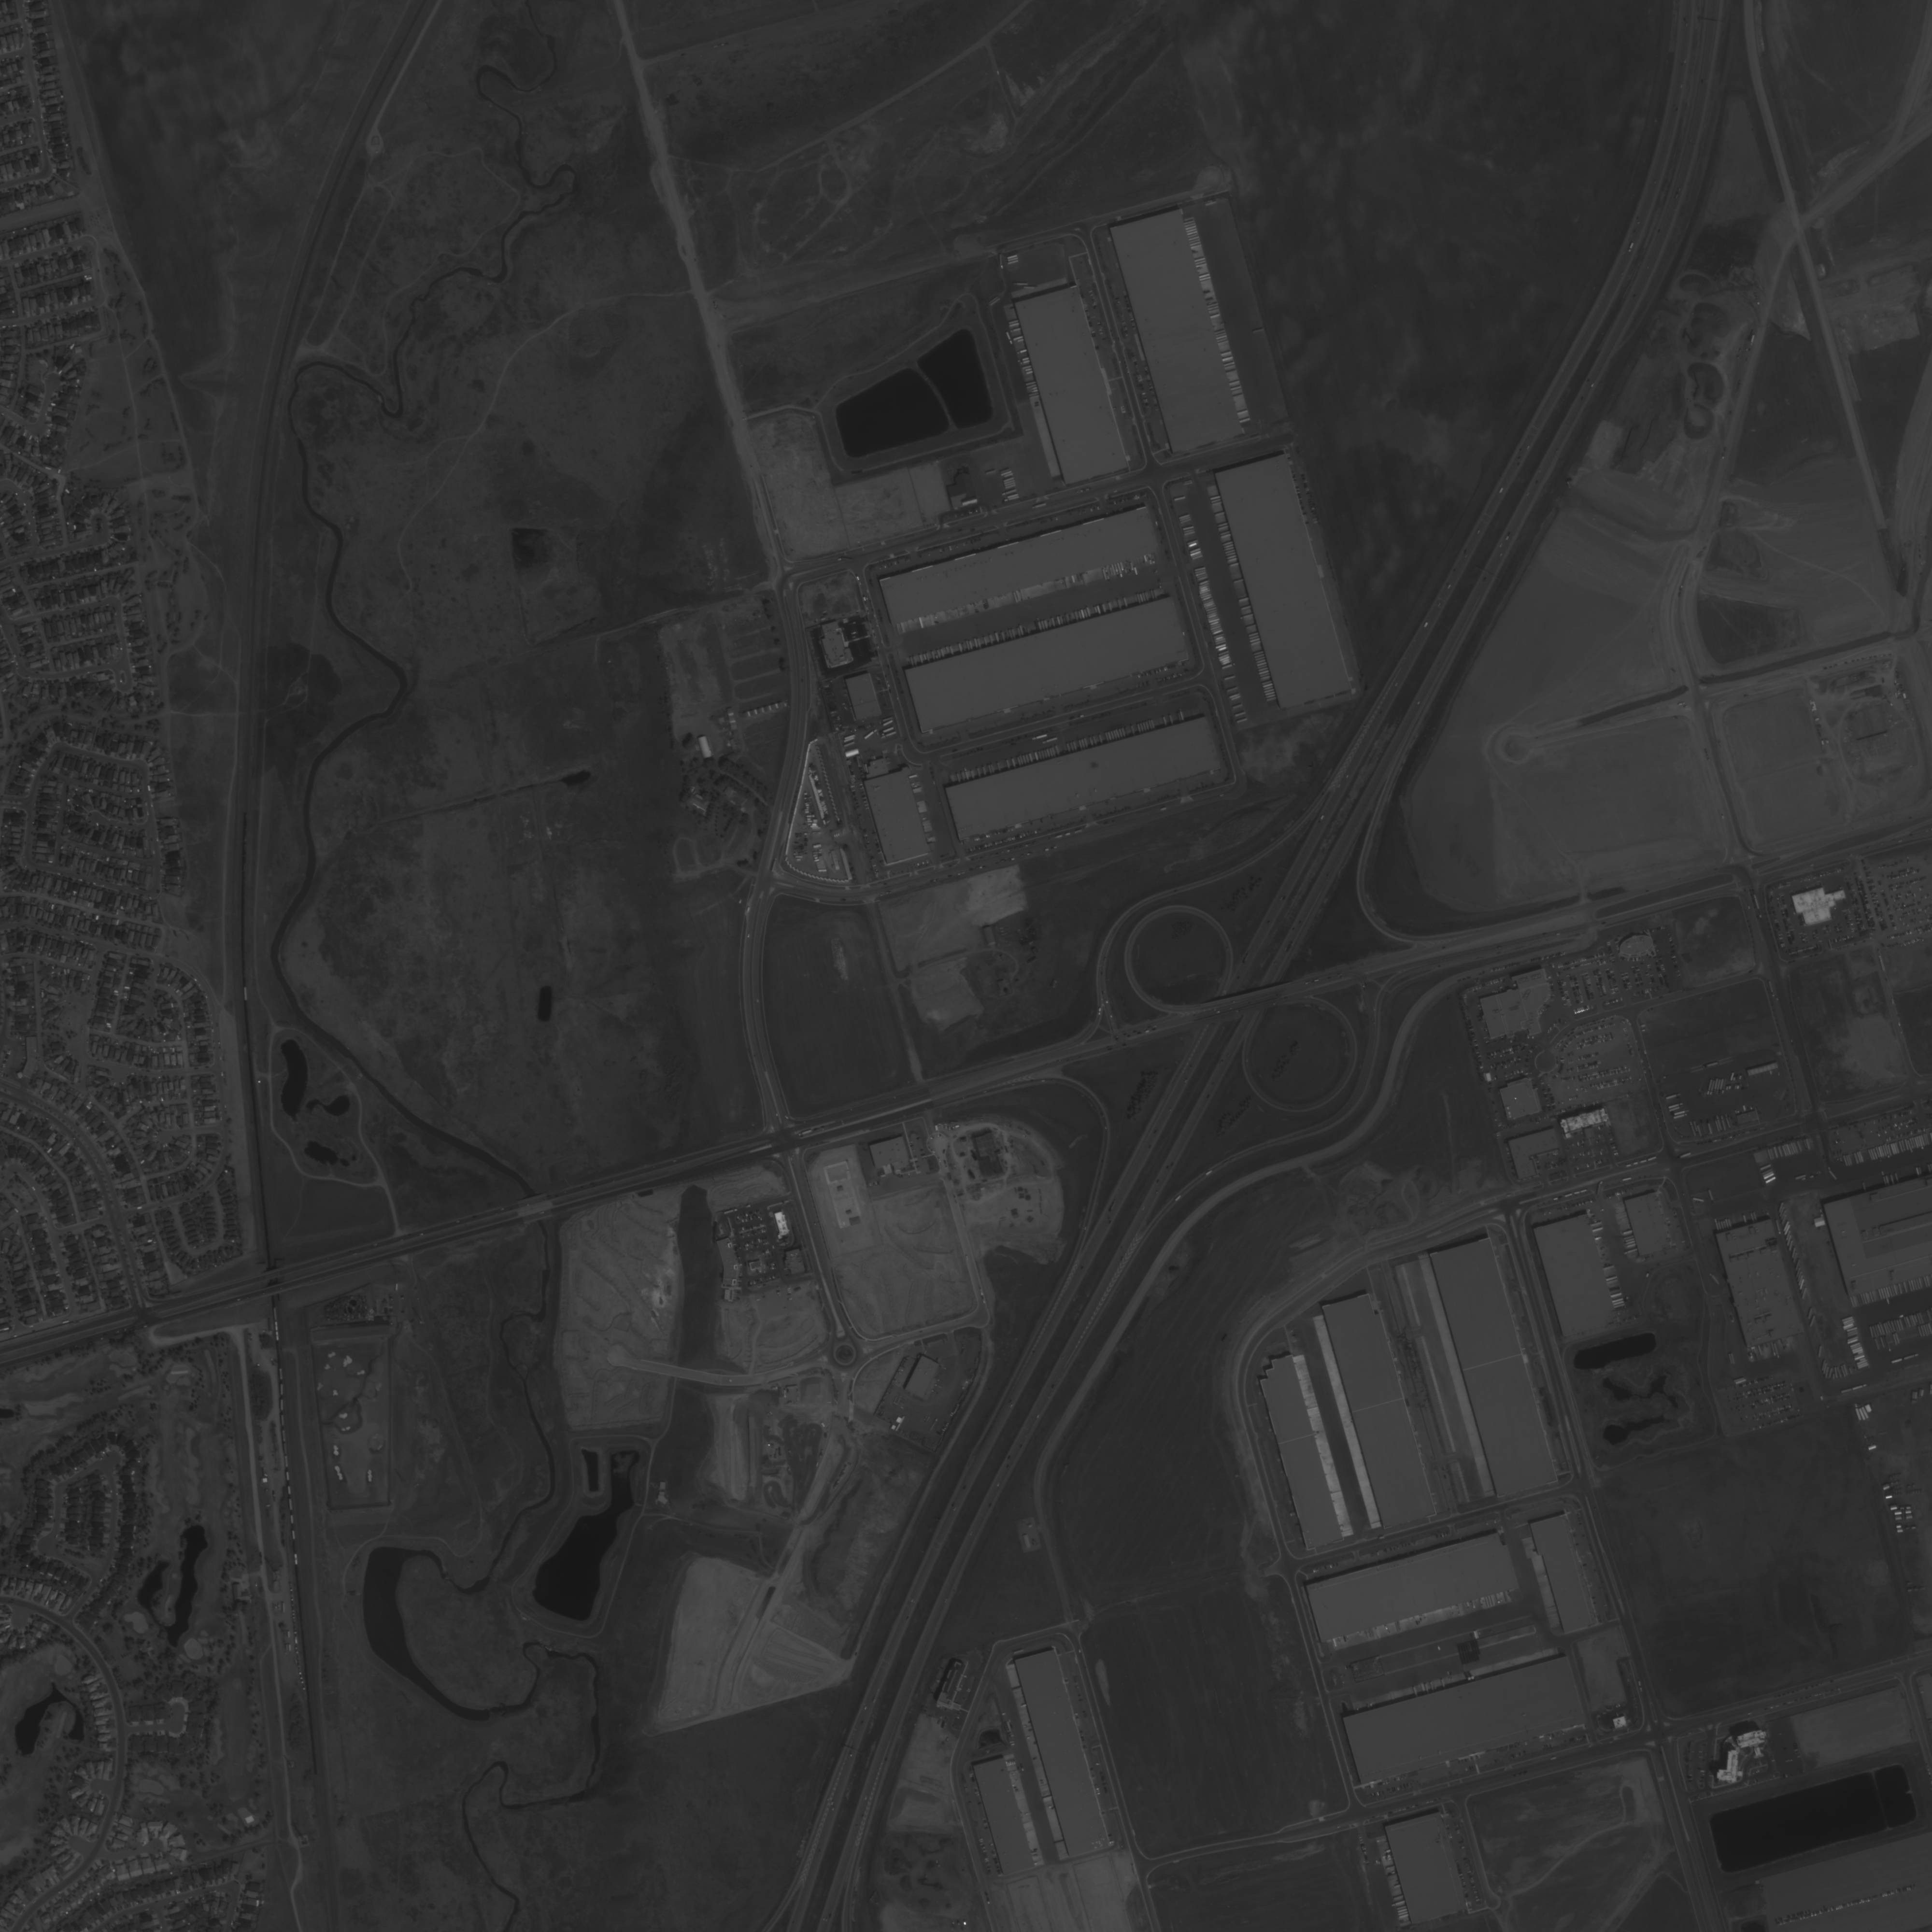bridge: (511, 1185, 557, 1230)
roundabout: (833, 1343, 858, 1366)
